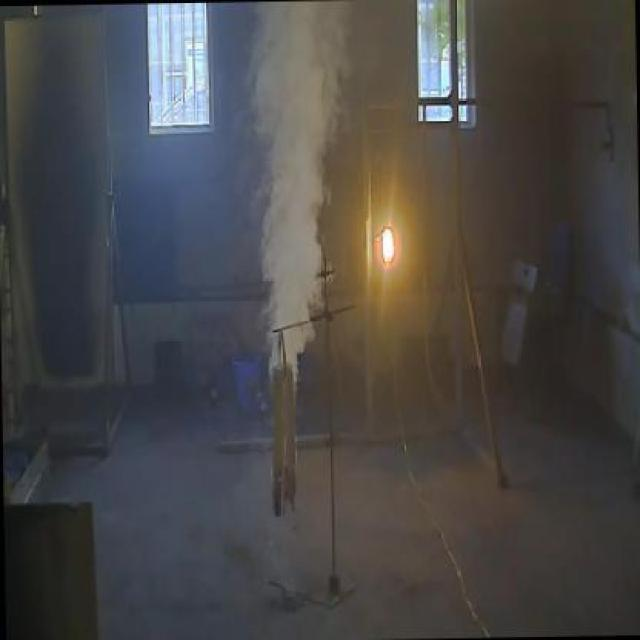fire: (234, 0, 348, 318)
